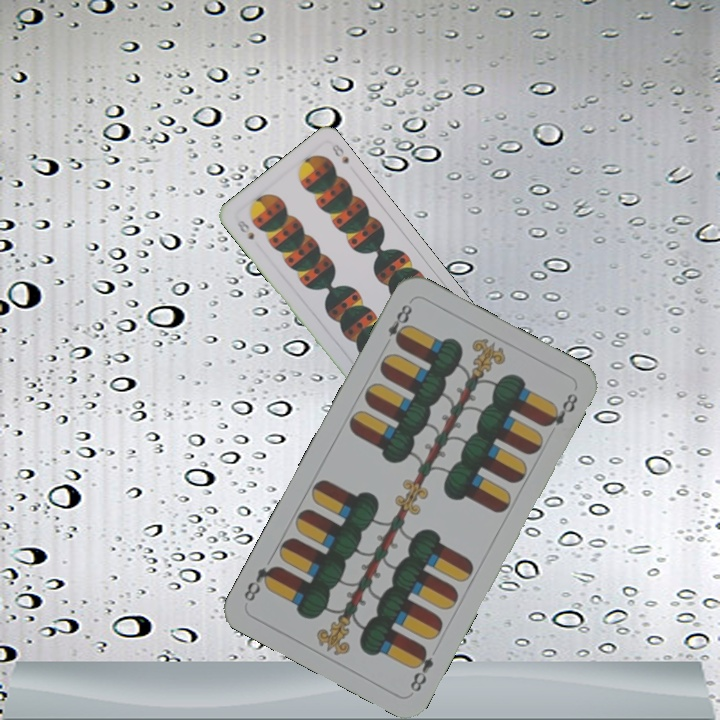E8: (405, 642, 437, 695), (383, 300, 415, 348)
S8: (233, 216, 257, 242)
